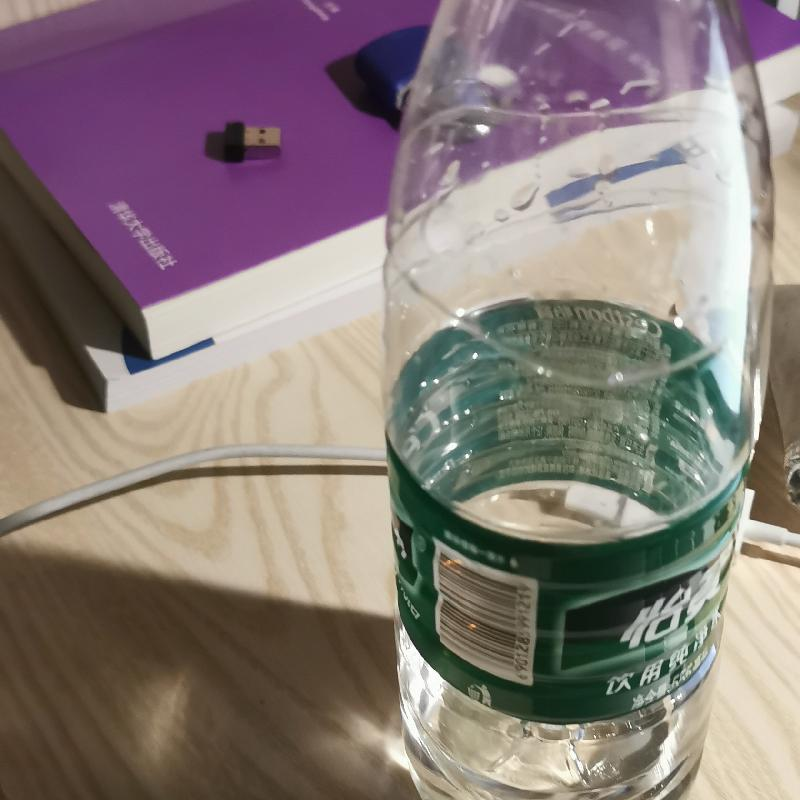bottles: (380, 1, 781, 799)
